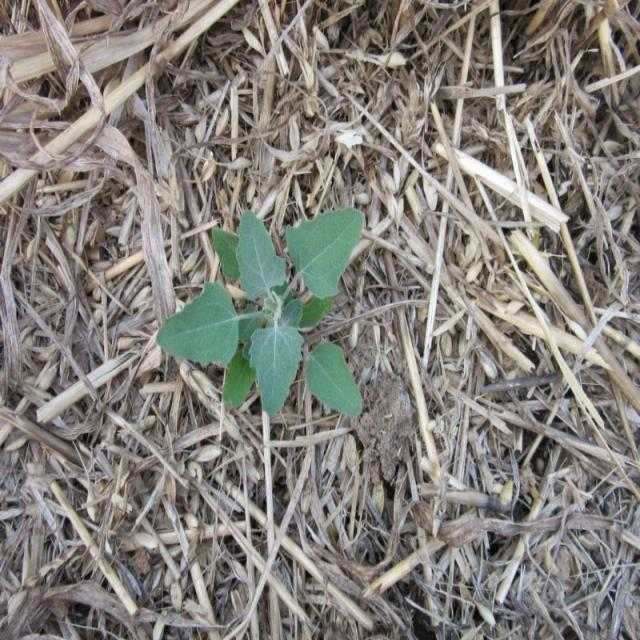ca: (157, 208, 366, 423)
